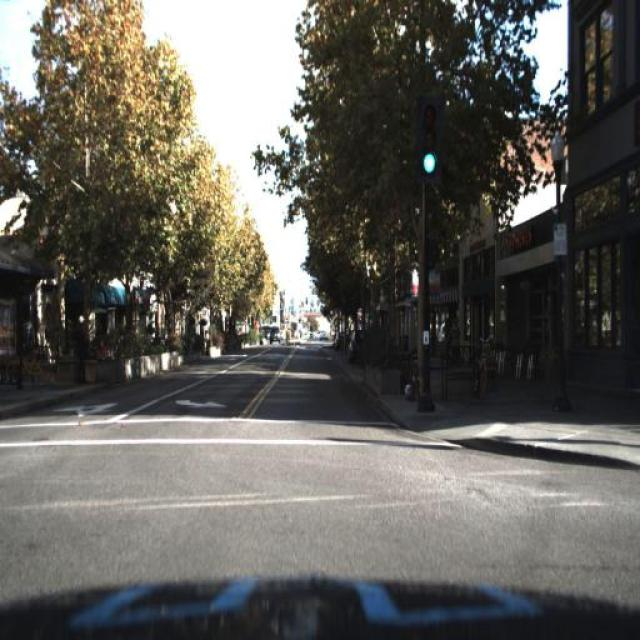car: (266, 319, 284, 349)
trafficLight: (15, 305, 35, 377), (72, 315, 92, 386), (447, 308, 465, 364), (71, 305, 83, 379), (448, 308, 464, 362)
trafficLight-Green: (419, 103, 443, 181)
trafficLight-GreenLeft: (413, 96, 442, 192)
